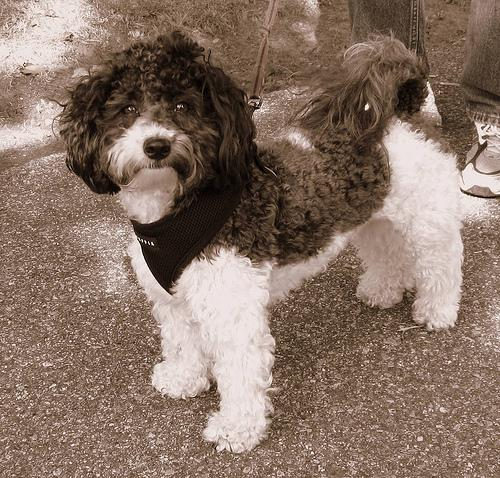dog-havanese: (64, 36, 255, 192)
